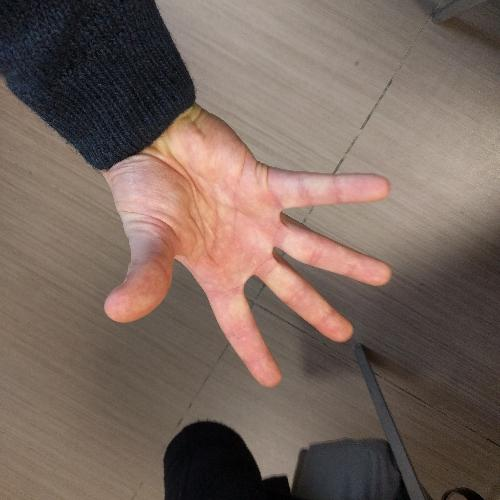paper: (96, 104, 396, 389)
